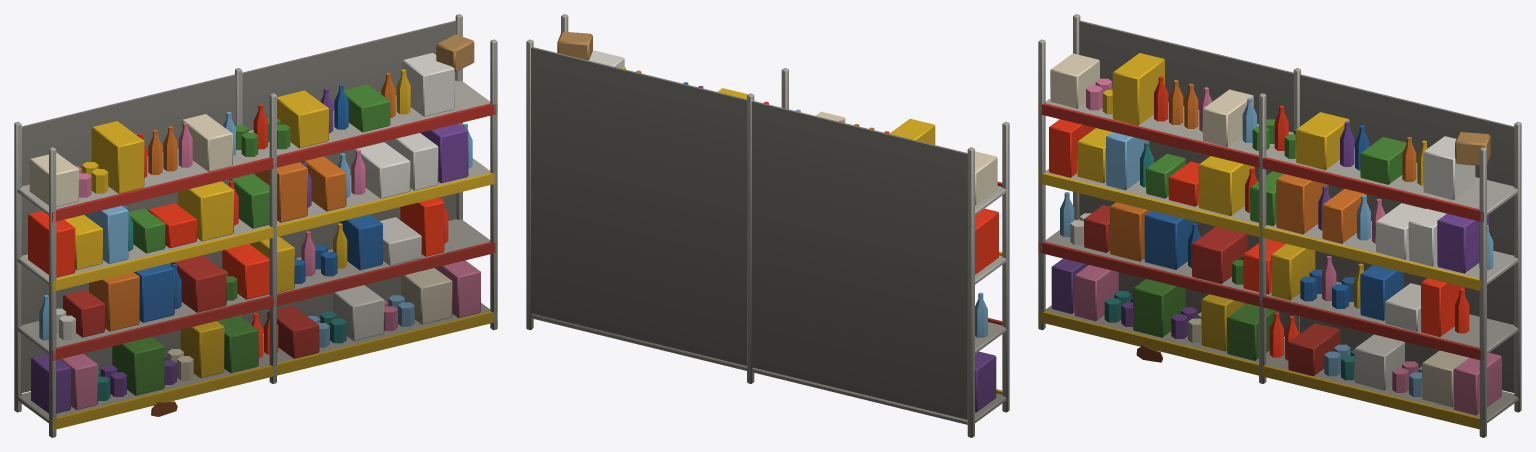
File: 49b_etagere_metal_8.fbx
3 renders of one model, left to right at view 1: azimuth 30°, elevation 25°; view 2: azimuth 150°, elevation 25°; view 3: azimuth 330°, elevation 25°, orthographic.
Visible parts, largest first — view 1: Etagere; view 2: Etagere; view 3: Etagere.
Part boxes in pixels (box(x1,y1,x2,y2)): Etagere: box(14, 14, 497, 437); Etagere: box(526, 14, 1009, 437); Etagere: box(1038, 14, 1521, 437).
Bounding box in the file's own units: 2.24 × 1.4 × 0.336.
1 material, 1 textured.
